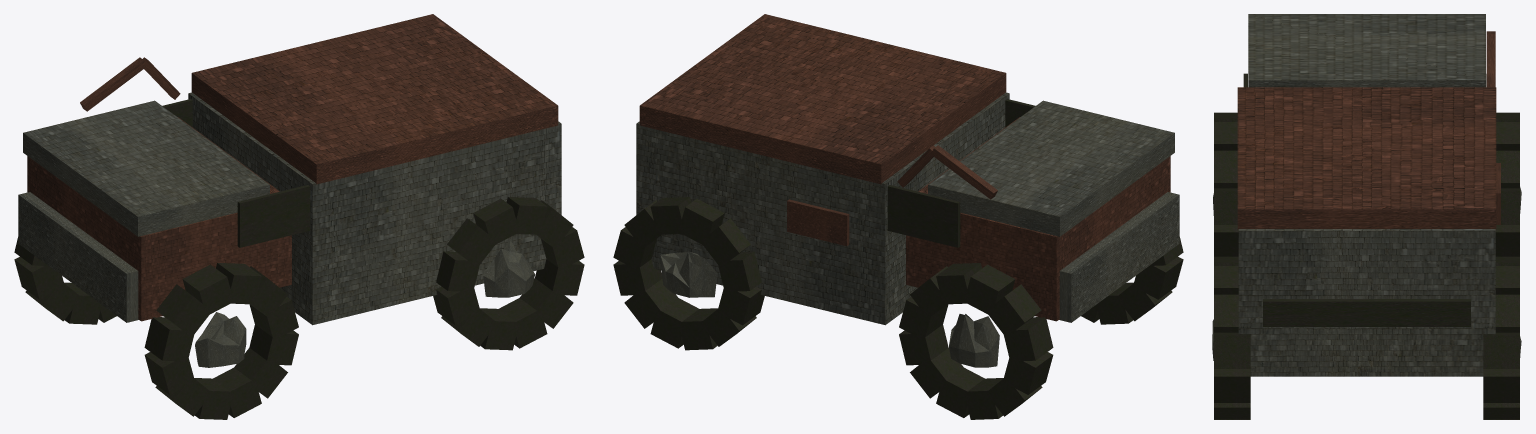
The model's file is rusting_delivery_wreck.glb.
The picture shows the model from 3 angles, left to right: view 1: azimuth 30°, elevation 25°; view 2: azimuth 150°, elevation 25°; view 3: azimuth 270°, elevation 25°; orthographic projection. The views are drawn at different scales.
Visible parts, largest first — view 1: cold_galvanized_metal, oxide_sheet_metal, char_and_rubber; view 2: cold_galvanized_metal, oxide_sheet_metal, char_and_rubber; view 3: cold_galvanized_metal, oxide_sheet_metal, char_and_rubber.
Part boxes in pixels (x1,y1,x2,y2): cold_galvanized_metal: (18,92,561,367); oxide_sheet_metal: (27,14,558,321); char_and_rubber: (14,99,584,419); cold_galvanized_metal: (636,92,1179,367); oxide_sheet_metal: (639,14,1170,321); char_and_rubber: (613,99,1183,419); cold_galvanized_metal: (1212,14,1521,376); oxide_sheet_metal: (1237,31,1500,229); char_and_rubber: (1214,73,1519,419).
Size of the model in its own units: 2.99 by 1.64 by 1.77.
Materials: 4 (4 with a texture image).
